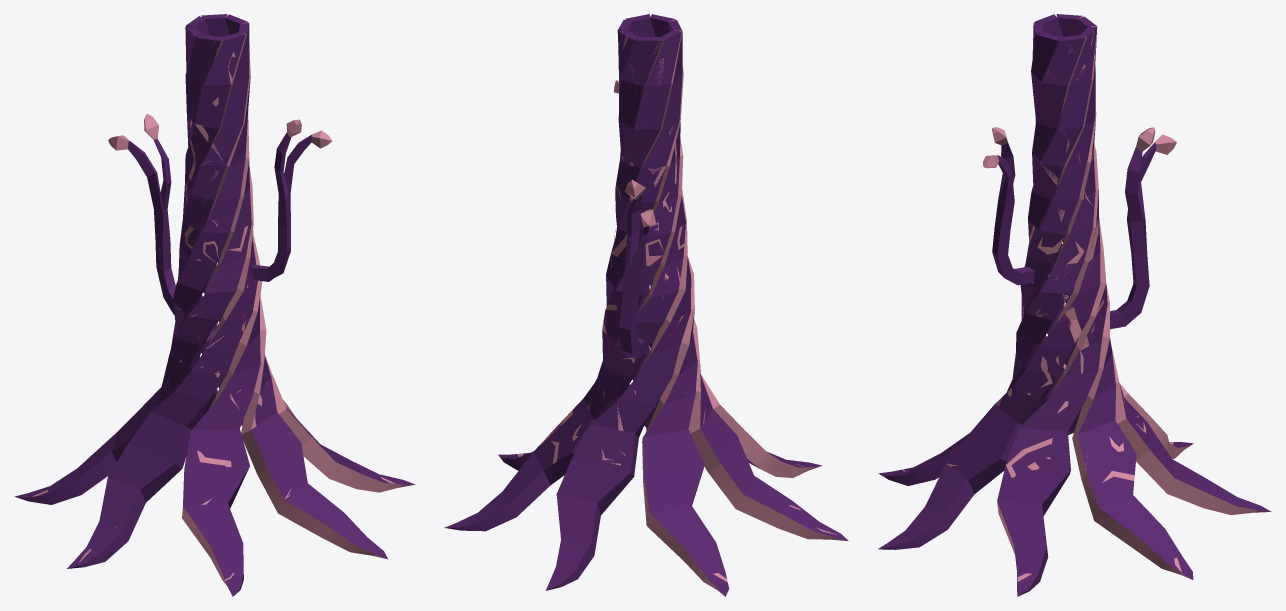
The model's file is L'arbre_De_La_Vie.fbx.
3 renders of one model, left to right at view 1: azimuth 30°, elevation 25°; view 2: azimuth 150°, elevation 25°; view 3: azimuth 270°, elevation 25°, orthographic.
Visible parts, largest first — view 1: polySurface314, polySurface316, polySurface337, polySurface334, polySurface333; view 2: polySurface314, polySurface316, polySurface337, polySurface333; view 3: polySurface314, polySurface316, polySurface337, polySurface333, polySurface334.
Part boxes in pixels (x1=…): polySurface314: x1=14, y1=14, x2=415, y2=596; polySurface316: x1=182, y1=14, x2=414, y2=586; polySurface337: x1=128, y1=139, x2=214, y2=342; polySurface334: x1=250, y1=132, x2=311, y2=283; polySurface333: x1=32, y1=40, x2=395, y2=580; polySurface314: x1=444, y1=14, x2=848, y2=596; polySurface316: x1=637, y1=15, x2=846, y2=595; polySurface337: x1=619, y1=195, x2=649, y2=358; polySurface333: x1=458, y1=36, x2=837, y2=582; polySurface314: x1=878, y1=14, x2=1271, y2=596; polySurface316: x1=997, y1=16, x2=1270, y2=579; polySurface337: x1=1075, y1=142, x2=1156, y2=343; polySurface333: x1=902, y1=31, x2=1182, y2=581; polySurface334: x1=992, y1=143, x2=1034, y2=285.
Bounding box in the file's own units: 144 × 191 × 141.
